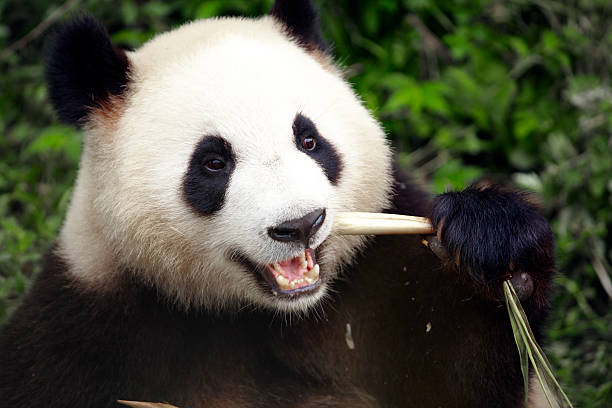panda: (30, 5, 416, 336)
